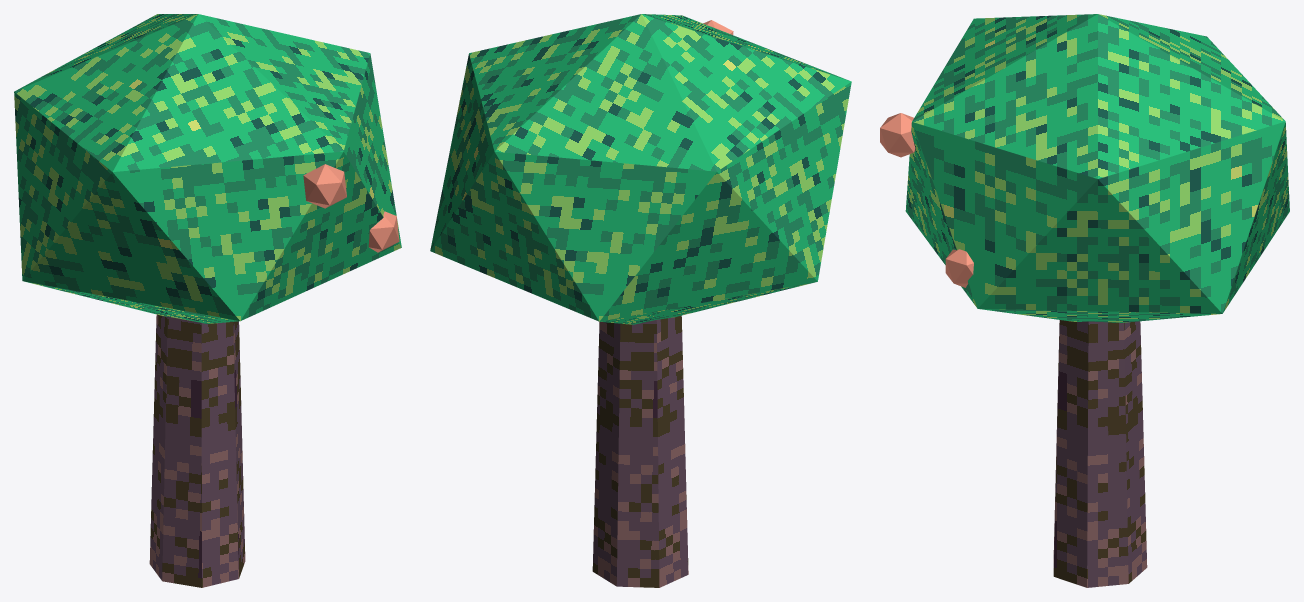
Rendered from a05_arvore_fruto.glb.
The picture shows the model from 3 angles, left to right: view 1: azimuth 30°, elevation 25°; view 2: azimuth 150°, elevation 25°; view 3: azimuth 270°, elevation 25°; orthographic projection.
Visible parts, largest first — view 1: a05_arvore_fruto; view 2: a05_arvore_fruto; view 3: a05_arvore_fruto.
Boxes of the visible parts, x1,y1,x2,y2 form: a05_arvore_fruto: [14, 14, 401, 587]; a05_arvore_fruto: [430, 14, 851, 587]; a05_arvore_fruto: [880, 14, 1289, 587].
Size of the model in its own units: 2.45 by 3.72 by 2.5.
3 materials, 2 textured.
